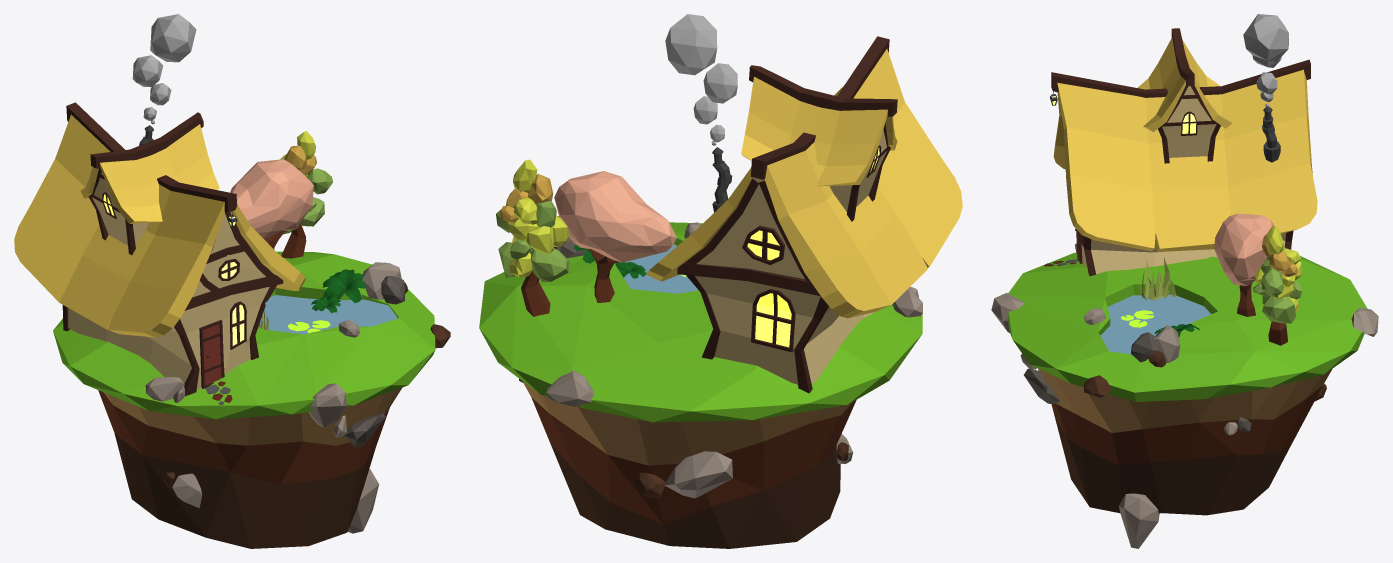
File: island2.glb
3 views of the same model, side by side, from view 1: azimuth 30°, elevation 25°; view 2: azimuth 150°, elevation 25°; view 3: azimuth 270°, elevation 25° (orthographic). The views are drawn at different scales.
Parts seen in each view (by area): view 1: Base bottom_0, Cube.001_15, Base top_1, Cube_14, Cube.003_112, Icosphere.019_98, Water_139, Cube.004_16, Smoke.005_110, Cube.005_113, Cube.002_111, Rock.002_79 (+12 smaller); view 2: Base top_1, Base bottom_0, Cube.001_15, Cube_14, Cube.003_112, Icosphere.019_98, Smoke.005_110, Rock.012_89, Cube.004_16, Cube.005_113, Cube.018_27, Water_139 (+14 smaller); view 3: Cube.001_15, Base top_1, Base bottom_0, Water_139, Icosphere.019_98, Cube.003_112, Cube_14, Cube.002_111, Cube.004_16, Smoke.005_110, Rock.011_88, Icosphere.003_122 (+8 smaller).
Boxes of the visible parts, x1=… form: Base bottom_0: x1=98, y1=387, x2=402, y2=548; Cube.001_15: x1=14, y1=114, x2=305, y2=337; Base top_1: x1=53, y1=251, x2=435, y2=419; Cube_14: x1=68, y1=213, x2=274, y2=389; Cube.003_112: x1=80, y1=124, x2=219, y2=223; Icosphere.019_98: x1=230, y1=159, x2=313, y2=239; Water_139: x1=260, y1=295, x2=397, y2=334; Cube.004_16: x1=66, y1=102, x2=237, y2=212; Smoke.005_110: x1=150, y1=14, x2=196, y2=62; Cube.005_113: x1=90, y1=112, x2=203, y2=168; Cube.002_111: x1=92, y1=172, x2=148, y2=245; Rock.002_79: x1=308, y1=383, x2=346, y2=427; Base top_1: x1=479, y1=222, x2=922, y2=422; Base bottom_0: x1=522, y1=381, x2=856, y2=548; Cube.001_15: x1=646, y1=49, x2=962, y2=318; Cube_14: x1=695, y1=177, x2=875, y2=384; Cube.003_112: x1=741, y1=76, x2=897, y2=186; Icosphere.019_98: x1=554, y1=171, x2=676, y2=262; Smoke.005_110: x1=665, y1=14, x2=717, y2=75; Rock.012_89: x1=664, y1=451, x2=732, y2=498; Cube.004_16: x1=751, y1=36, x2=889, y2=179; Cube.005_113: x1=749, y1=65, x2=897, y2=116; Cube.018_27: x1=677, y1=263, x2=820, y2=296; Water_139: x1=614, y1=244, x2=698, y2=293; Cube.001_15: x1=1053, y1=69, x2=1317, y2=251; Base top_1: x1=1008, y1=252, x2=1367, y2=401; Base bottom_0: x1=1038, y1=368, x2=1332, y2=515; Water_139: x1=1100, y1=294, x2=1210, y2=354; Icosphere.019_98: x1=1214, y1=213, x2=1274, y2=285; Cube.003_112: x1=1137, y1=37, x2=1232, y2=132; Cube_14: x1=1081, y1=233, x2=1285, y2=273; Cube.002_111: x1=1162, y1=86, x2=1216, y2=157; Cube.004_16: x1=1051, y1=59, x2=1310, y2=97; Smoke.005_110: x1=1243, y1=14, x2=1288, y2=61; Rock.011_88: x1=1119, y1=493, x2=1159, y2=548; Icosphere.003_122: x1=1262, y1=295, x2=1295, y2=323.
Size of the model in its own units: 4.16 by 5.72 by 4.19.
